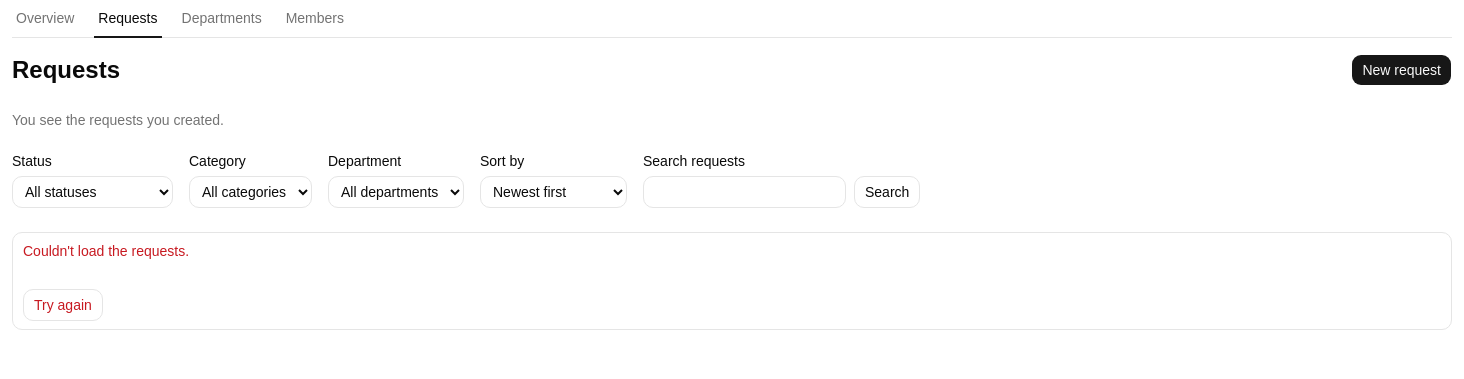
Test: RequestsPage › shows an error with a retry
The width and height of the screenshot is (1464, 379).
Expected: the text "Couldn't load the requests." is shown, [23,243,189,259]
Click the button "Try again" at (63, 305), box [23,289,103,321]
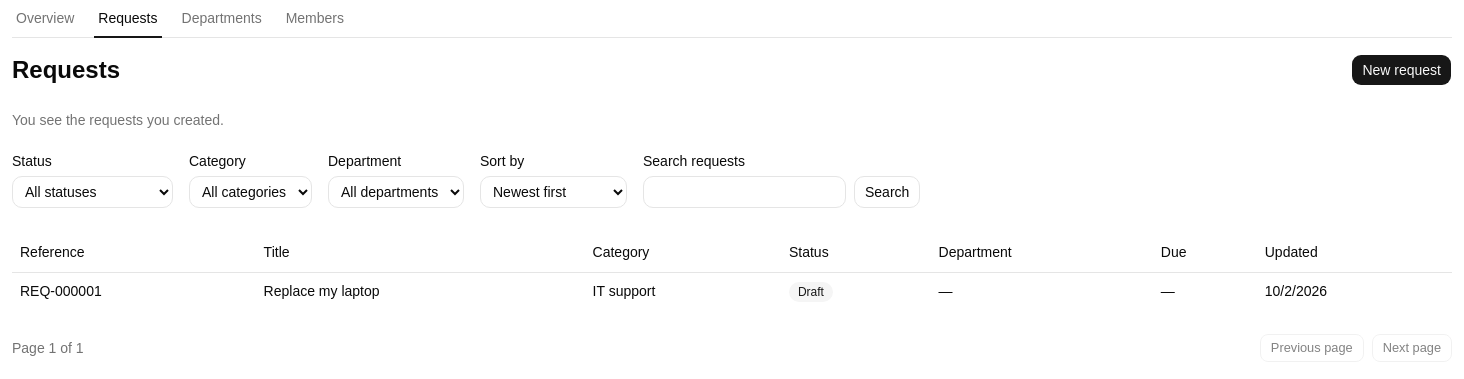
Now the link "Replace my laptop" is shown, box [264,283,380,299]
